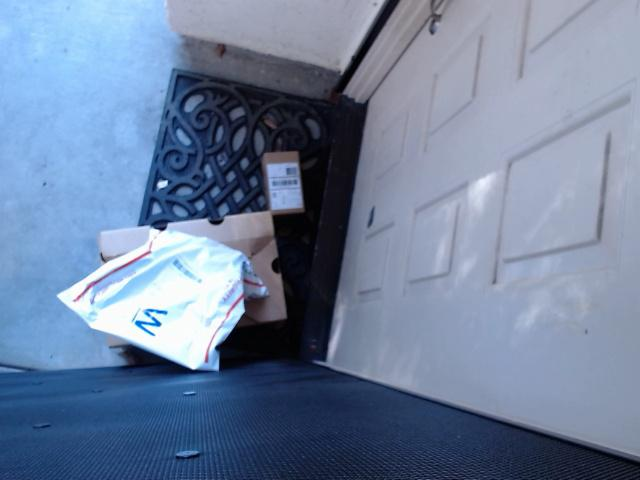box: (99, 210, 286, 367), (261, 150, 305, 215)
plastic_bag: (56, 228, 269, 373)
